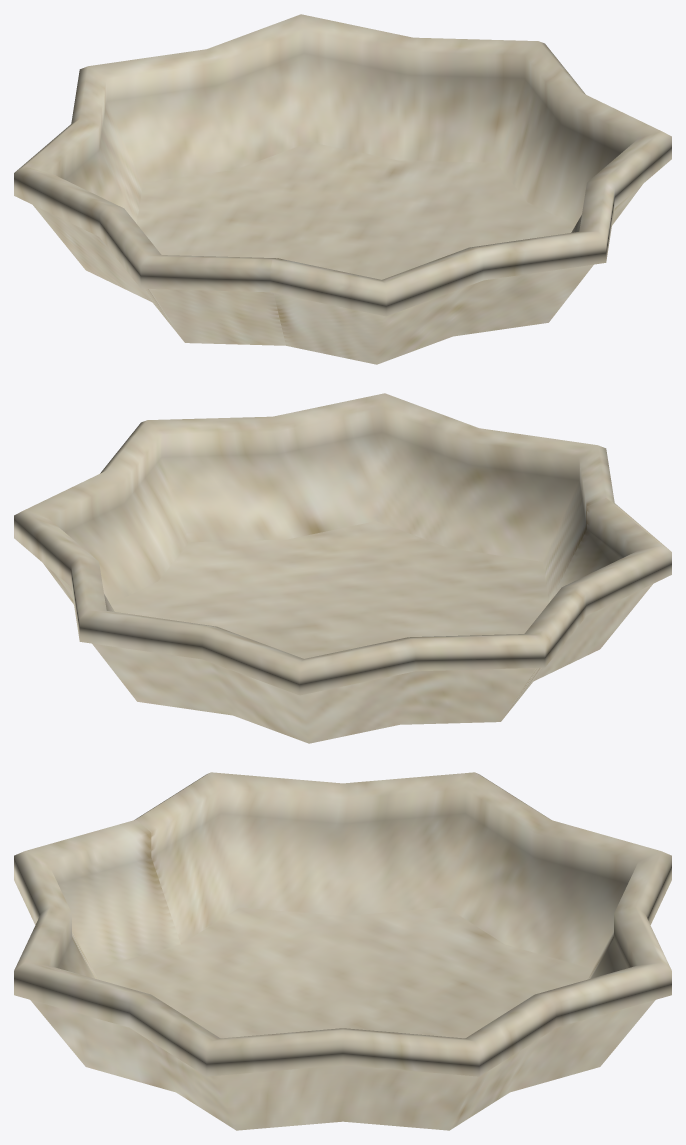
The model's file is PieCrust.fbx.
3 views of the same model, one above another, from view 1: azimuth 30°, elevation 25°; view 2: azimuth 150°, elevation 25°; view 3: azimuth 270°, elevation 25° (orthographic). The views are drawn at different scales.
Visible parts, largest first — view 1: Cylinder; view 2: Cylinder; view 3: Cylinder.
Boxes of the visible parts, x1=… form: Cylinder: x1=14, y1=14, x2=671, y2=364; Cylinder: x1=14, y1=393, x2=671, y2=743; Cylinder: x1=14, y1=772, x2=671, y2=1130.
Size of the model in its own units: 0.7614 by 0.1469 by 0.7614.
